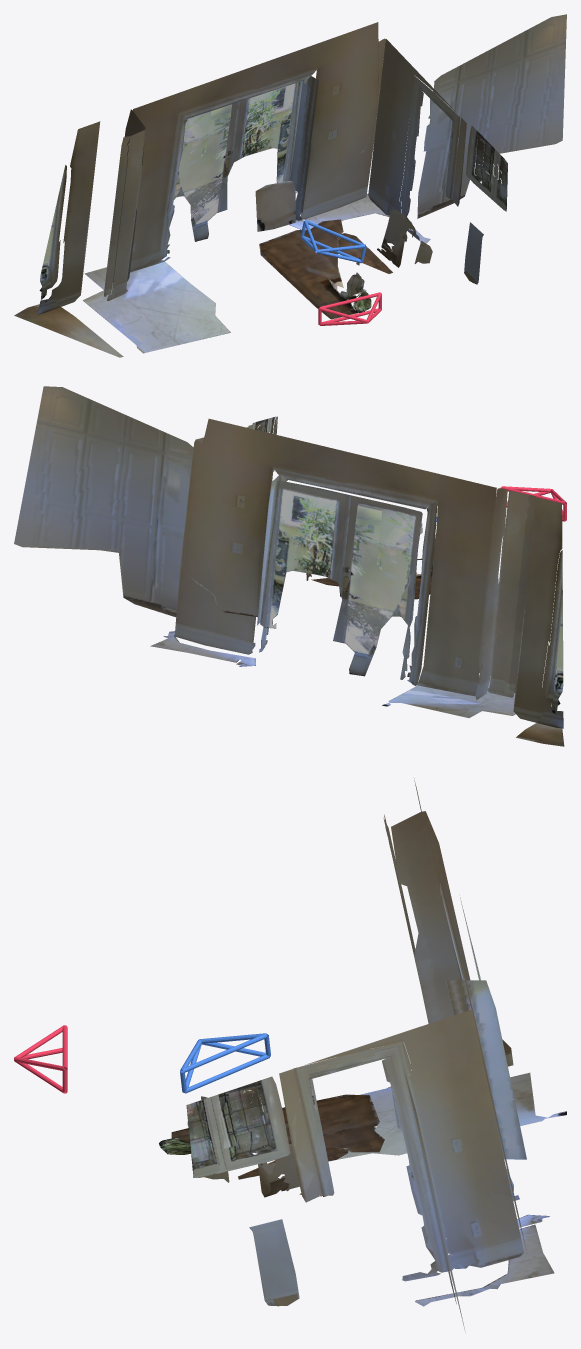
3 renders of one model, top to bottom at view 1: azimuth 30°, elevation 25°; view 2: azimuth 150°, elevation 25°; view 3: azimuth 270°, elevation 25°, orthographic. The views are drawn at different scales.
Visible parts, largest first — view 1: Node; view 2: Node; view 3: Node.
Part boxes in pixels (<box>): Node: <box>14,14,566,357</box>; Node: <box>14,386,566,746</box>; Node: <box>14,778,566,1331</box>.
Size of the model in its own units: 7.13 by 2.99 by 4.48.
31 materials, 29 textured.
